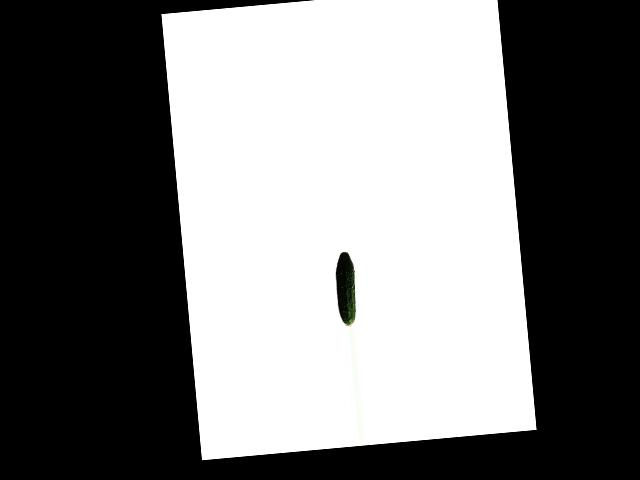cucumber: (333, 251, 358, 326)
